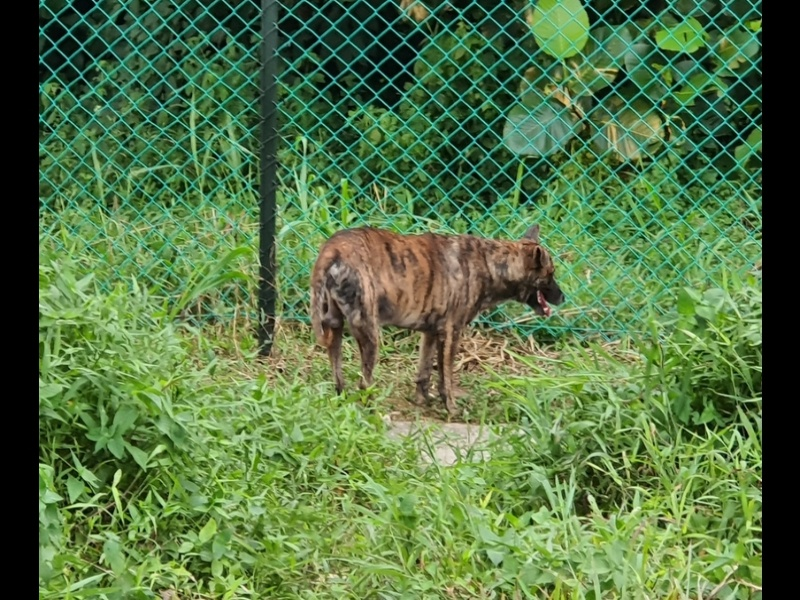dog: (308, 223, 566, 433)
